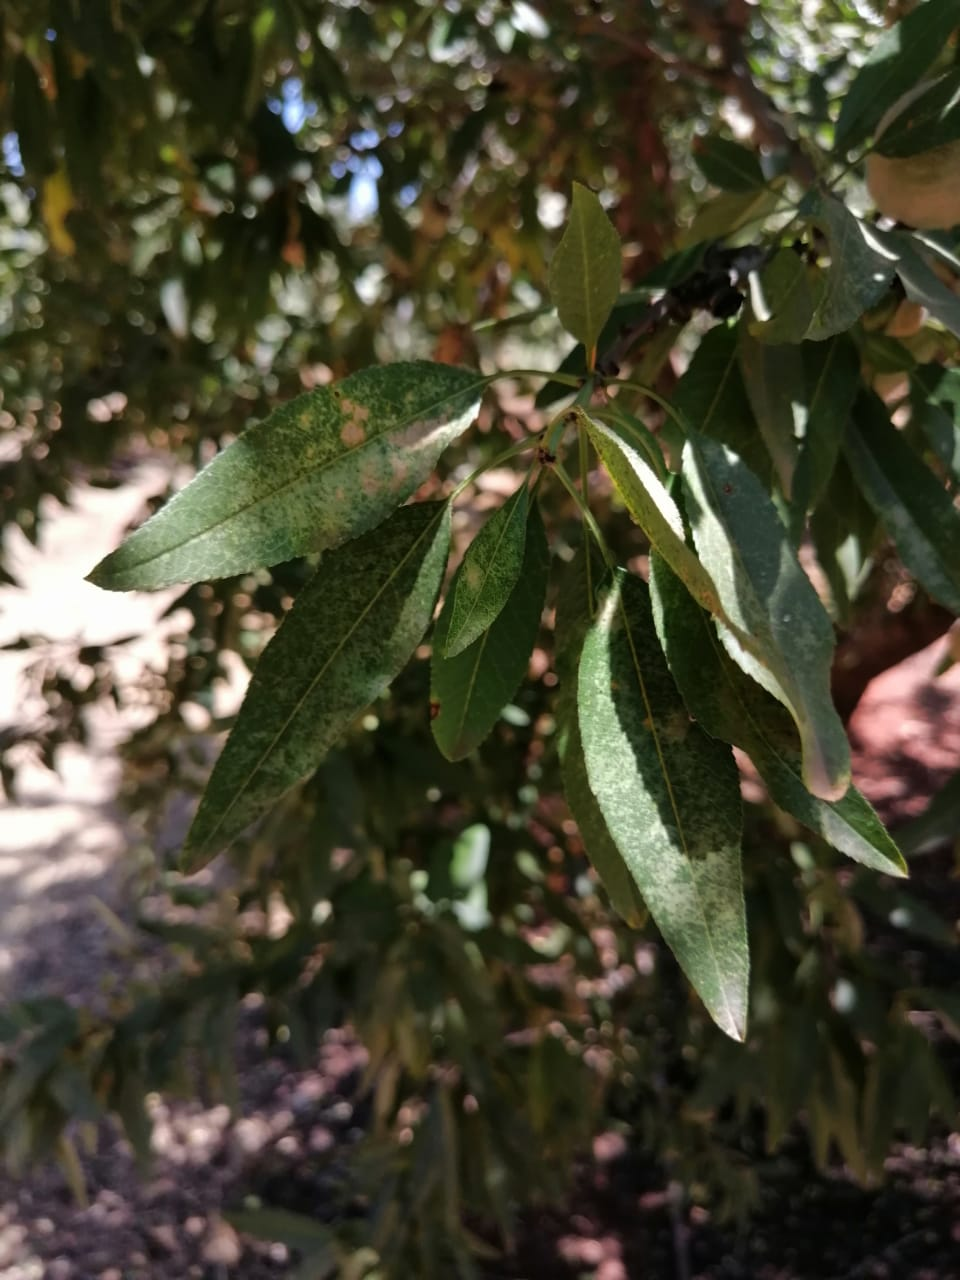faux tigre: (179, 492, 455, 880), (91, 360, 490, 595), (678, 427, 855, 802), (441, 481, 529, 657)
